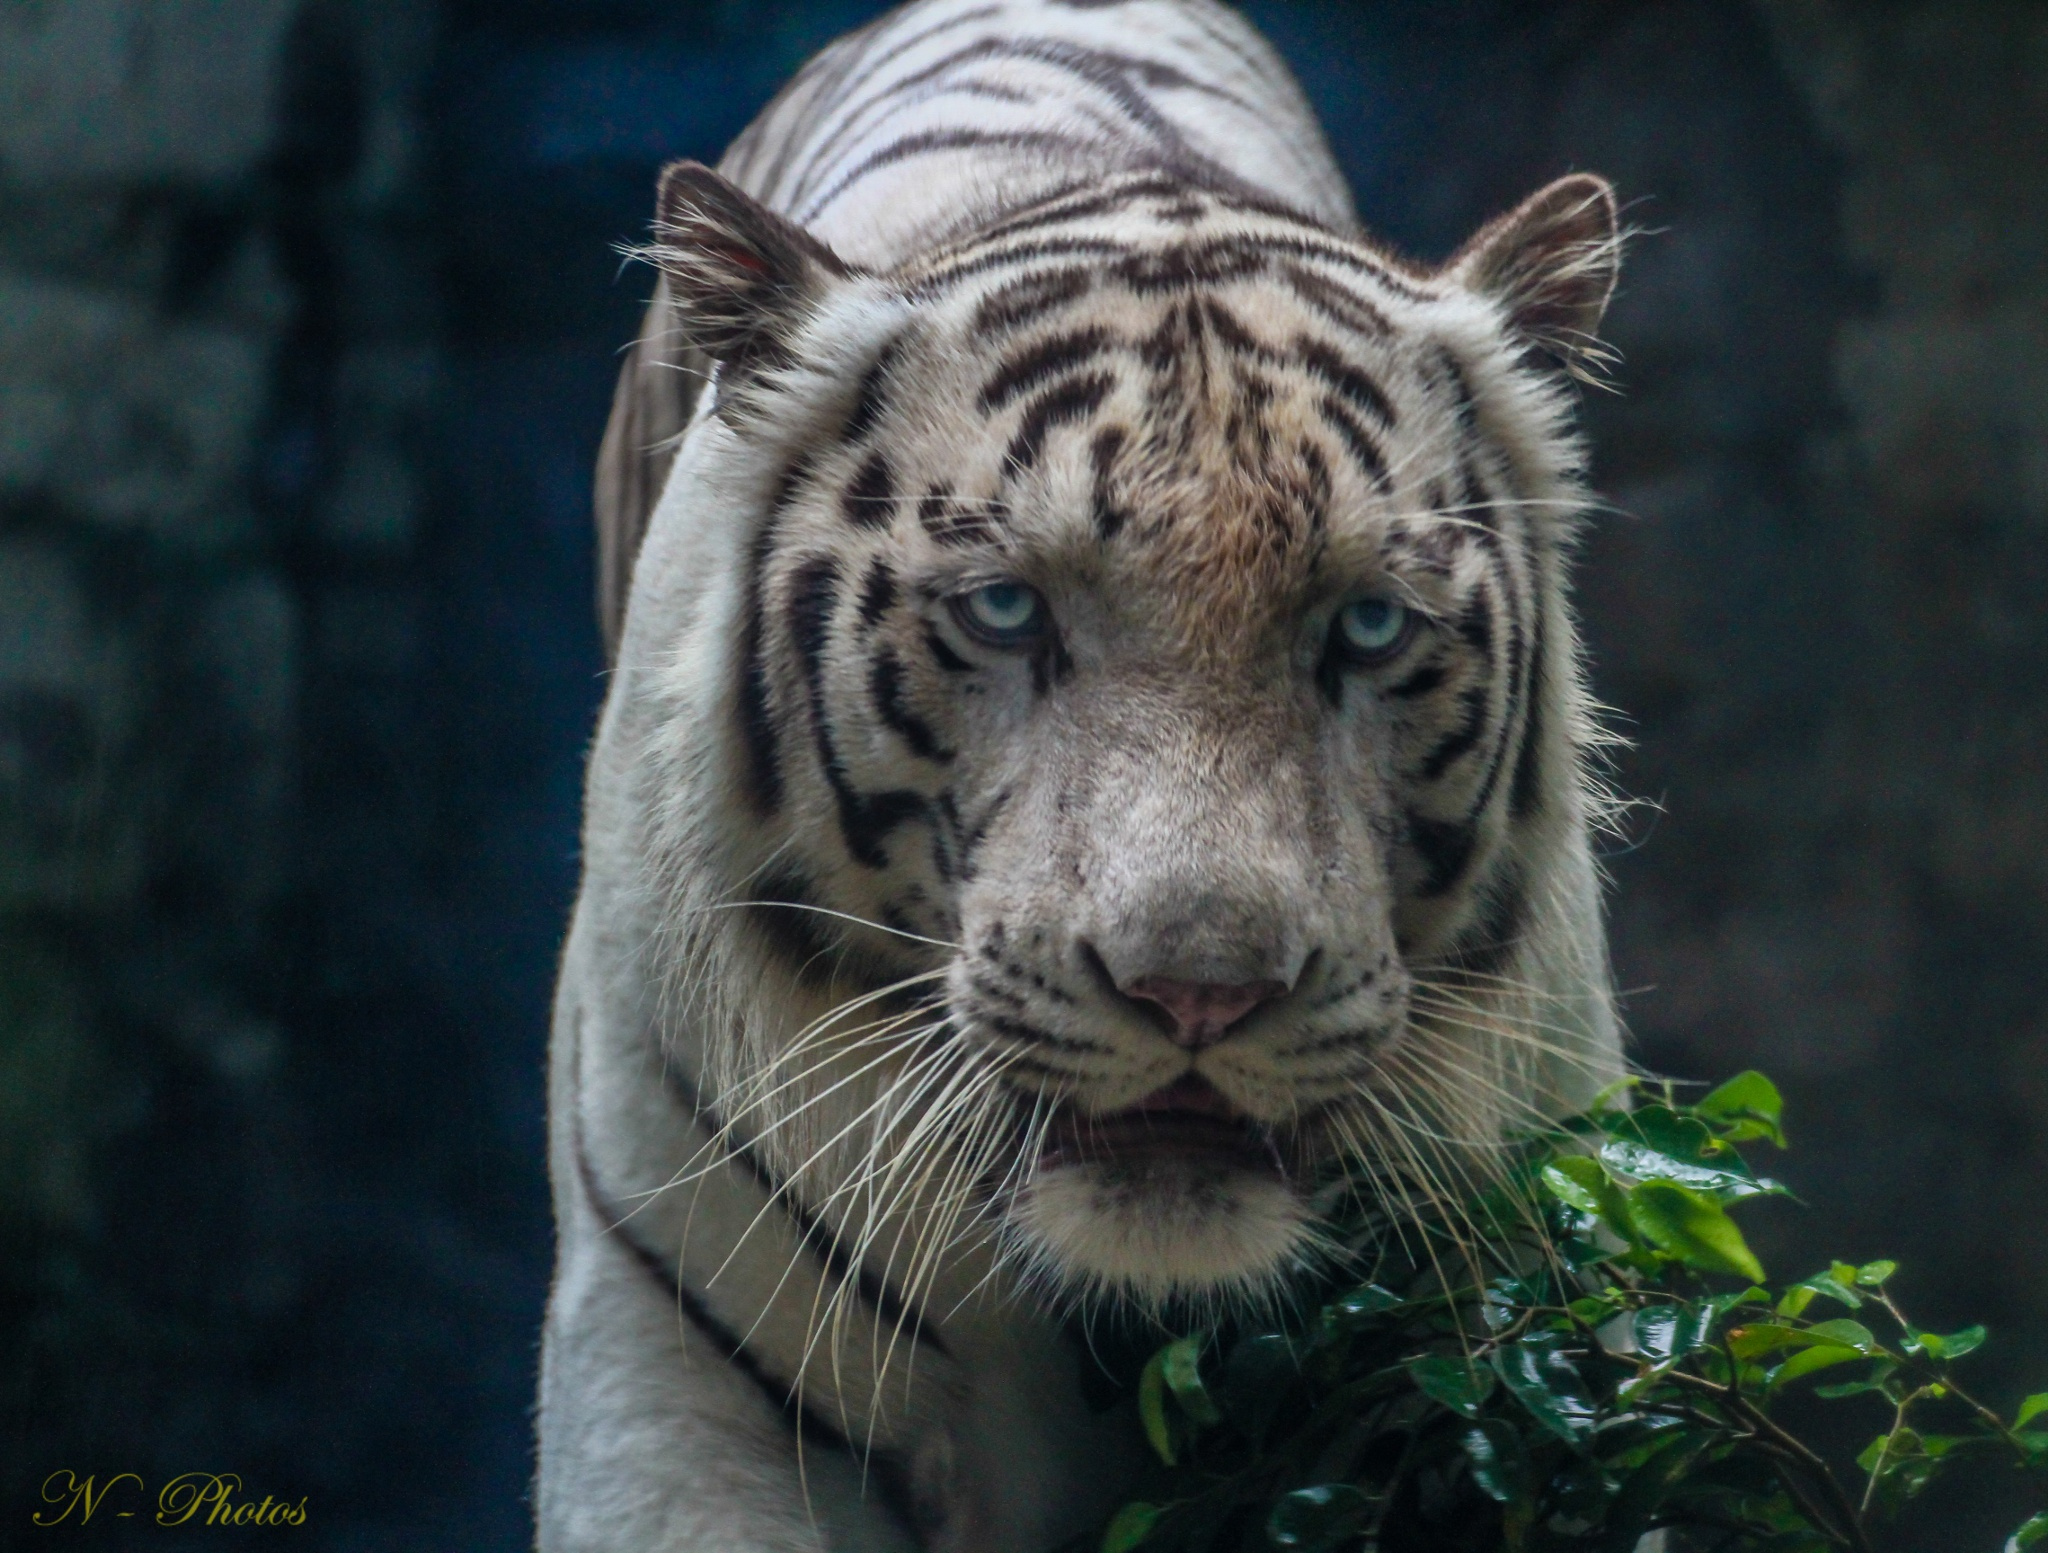tiger: (580, 64, 1653, 1458)
